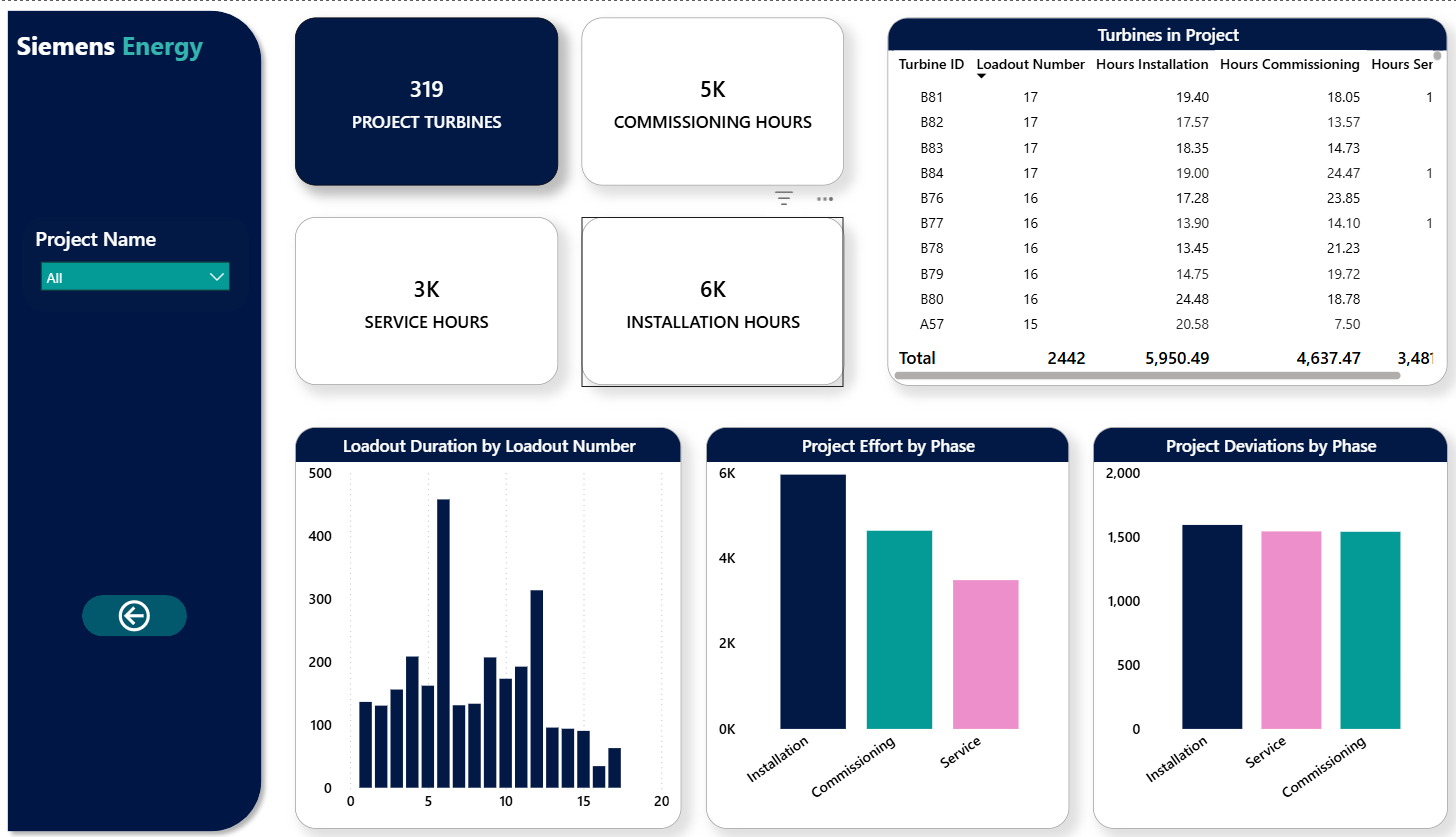

Layout of this report page (visuals, bound fields, positions):
{"tool":"powerbi","page":{"name":"Project Details","canvas":[1400,800],"ordinal":1},"visuals":[{"type":"shape","box":[0,0,260,800],"z":0},{"type":"card","fields":{"Values":["_Measure.KPI Total Turbines"]},"box":[282.5,15.9,250.8,160.3],"z":1000},{"type":"card","fields":{"Values":["_Measure.Hours Installation"]},"box":[555.6,206.3,250.8,160.3],"z":2000},{"type":"card","fields":{"Values":["_Measure.Hours Commissioning"]},"box":[555.6,15.9,250,160],"z":3000},{"type":"card","fields":{"Values":["_Measure.Hours Service"]},"box":[282.5,206.3,250.8,160.3],"z":4000},{"type":"clusteredColumnChart","title":"Loadout Duration by Loadout Number","fields":{"Y":["Sum(Loadout.Loadout_Duration)"],"Category":["Loadout.Loadout_Number"]},"box":[282.5,406.3,368.3,382.5],"z":5000},{"type":"clusteredColumnChart","title":"Project Effort by Phase","fields":{"Category":["Phase.Phase"],"Y":["_Measure.Hours by Phase"]},"box":[674.6,406.3,346,382.5],"z":6000},{"type":"clusteredColumnChart","title":"Project Deviations by Phase","fields":{"Category":["Phase.Phase"],"Y":["_Measure.Deviations by Phase"]},"box":[1042.9,406.3,338.1,382.5],"z":7000},{"type":"slicer","title":"Project Name","fields":{"Values":["Mapping_Projects.Project_Name"]},"box":[22.9,205.7,215.7,90],"z":8000},{"type":"tableEx","title":"Turbines in Project","fields":{"Values":["Mapping_Turbines.Turbine_ID","Sum(Mapping_Turbines.Loadout_Number)","_Measure.Hours Installation","_Measure.Hours Commissioning","_Measure.Hours Service"]},"box":[847.6,15.9,533.3,350.8],"z":9000},{"type":"actionButton","box":[80.2,565.6,100,39.6],"z":10000},{"type":"textbox","box":[12.7,20.6,223.8,58.7],"z":11000}]}

Visuals, with their boxes in screenshot pixels (x1, y1, x2, y2), scaled from the page's 1400x800 canvas onto the 1456x837 screenshot:
shape: (0, 0, 270, 836)
card - _Measure.KPI Total Turbines: (294, 17, 555, 184)
card - _Measure.Hours Installation: (578, 216, 839, 384)
card - _Measure.Hours Commissioning: (578, 17, 838, 184)
card - _Measure.Hours Service: (294, 216, 555, 384)
"Loadout Duration by Loadout Number" clusteredColumnChart: (294, 425, 677, 825)
"Project Effort by Phase" clusteredColumnChart: (702, 425, 1061, 825)
"Project Deviations by Phase" clusteredColumnChart: (1085, 425, 1436, 825)
"Project Name" slicer: (24, 215, 248, 309)
"Turbines in Project" tableEx: (882, 17, 1436, 384)
actionButton: (83, 592, 187, 633)
textbox: (13, 22, 246, 83)
